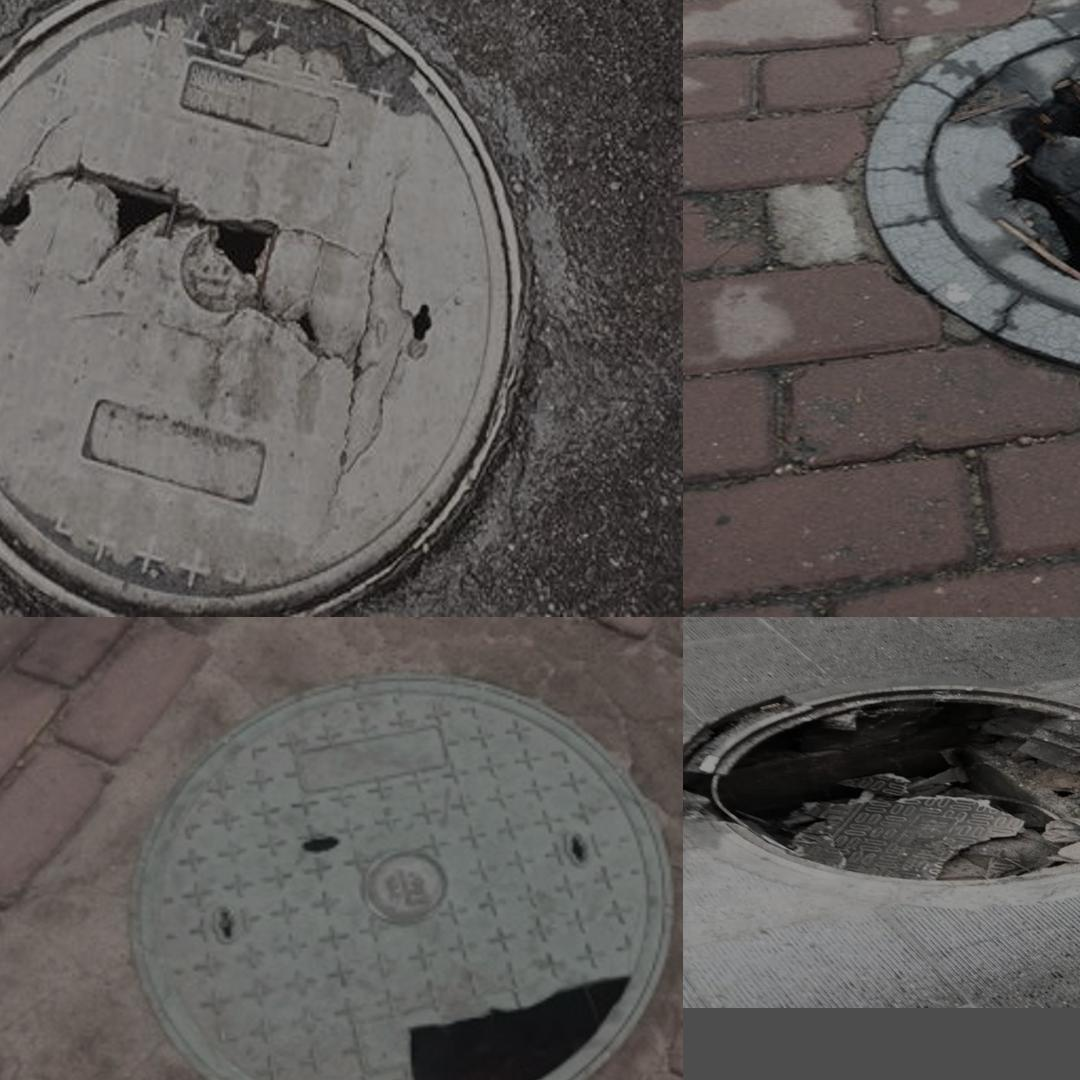broke: (0, 0, 575, 614), (139, 684, 643, 1080), (823, 0, 1080, 382), (692, 678, 1080, 904)
